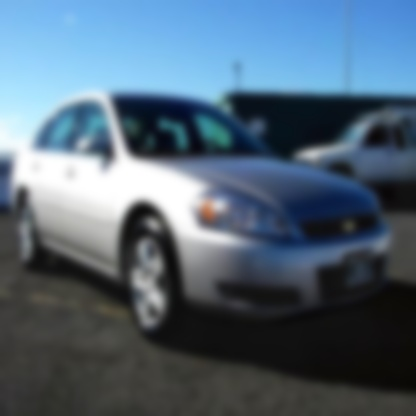Vehicle: (9, 90, 396, 344)
